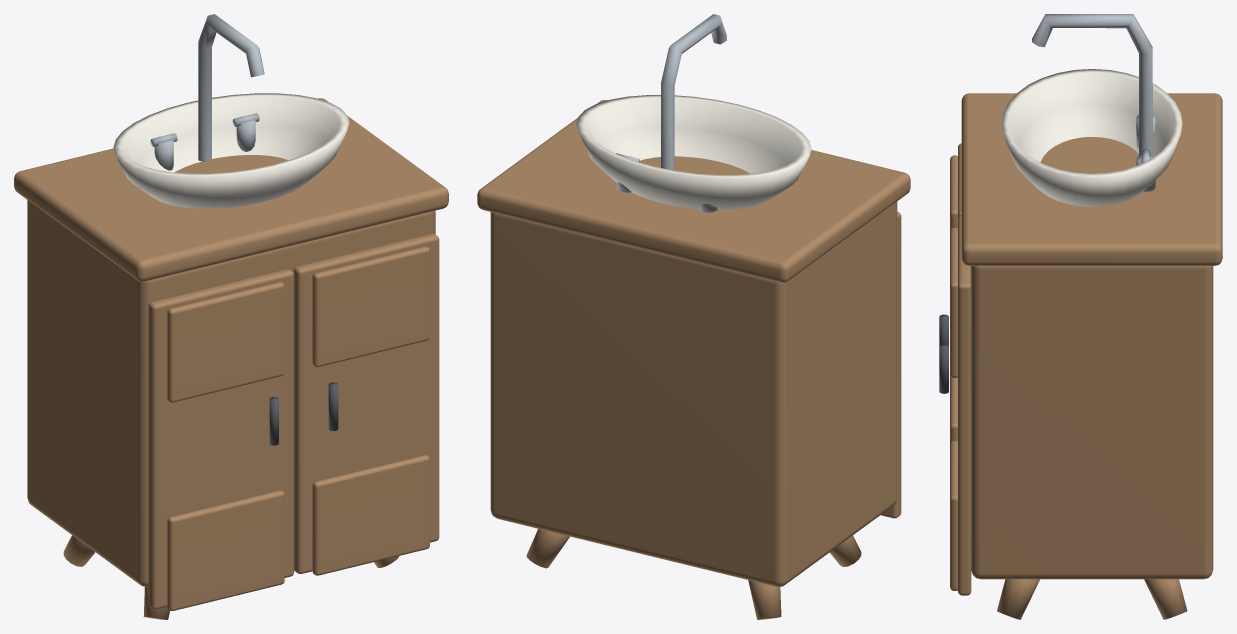
File: atelier-vanity-sink.glb
The picture shows the model from 3 angles, left to right: view 1: azimuth 30°, elevation 25°; view 2: azimuth 150°, elevation 25°; view 3: azimuth 270°, elevation 25°; orthographic projection. The views are drawn at different scales.
Parts seen in each view (by area): view 1: legs.163, ceramic.099, steel.027, metal.130; view 2: legs.163, ceramic.099, steel.027; view 3: legs.163, ceramic.099, steel.027, metal.130.
Boxes of the visible parts, x1,y1,x2,y2 form: legs.163: (14, 98, 448, 619); ceramic.099: (113, 93, 349, 208); steel.027: (150, 14, 264, 170); metal.130: (269, 382, 338, 445); legs.163: (477, 100, 910, 619); ceramic.099: (576, 95, 811, 209); steel.027: (616, 14, 726, 212); legs.163: (950, 93, 1222, 619); ceramic.099: (1001, 69, 1182, 206); steel.027: (1032, 14, 1155, 191); metal.130: (939, 314, 948, 393).
Size of the model in its own units: 0.685 by 1.12 by 0.5265.
